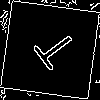T: (25, 25, 80, 78)
